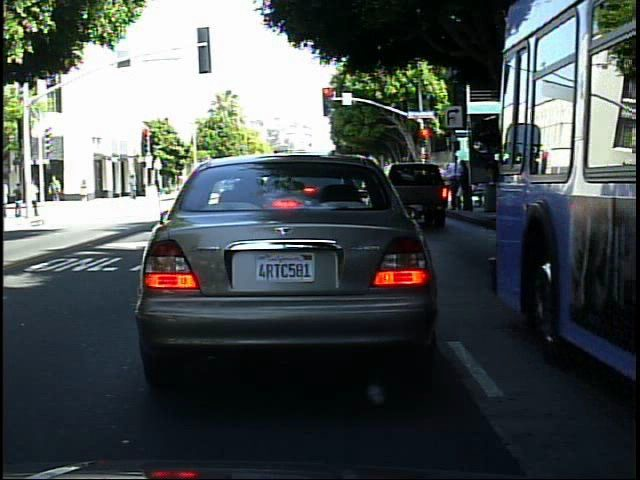person: (76, 169, 94, 207), (48, 170, 67, 203), (11, 179, 26, 220), (125, 170, 143, 204), (30, 172, 43, 216)
